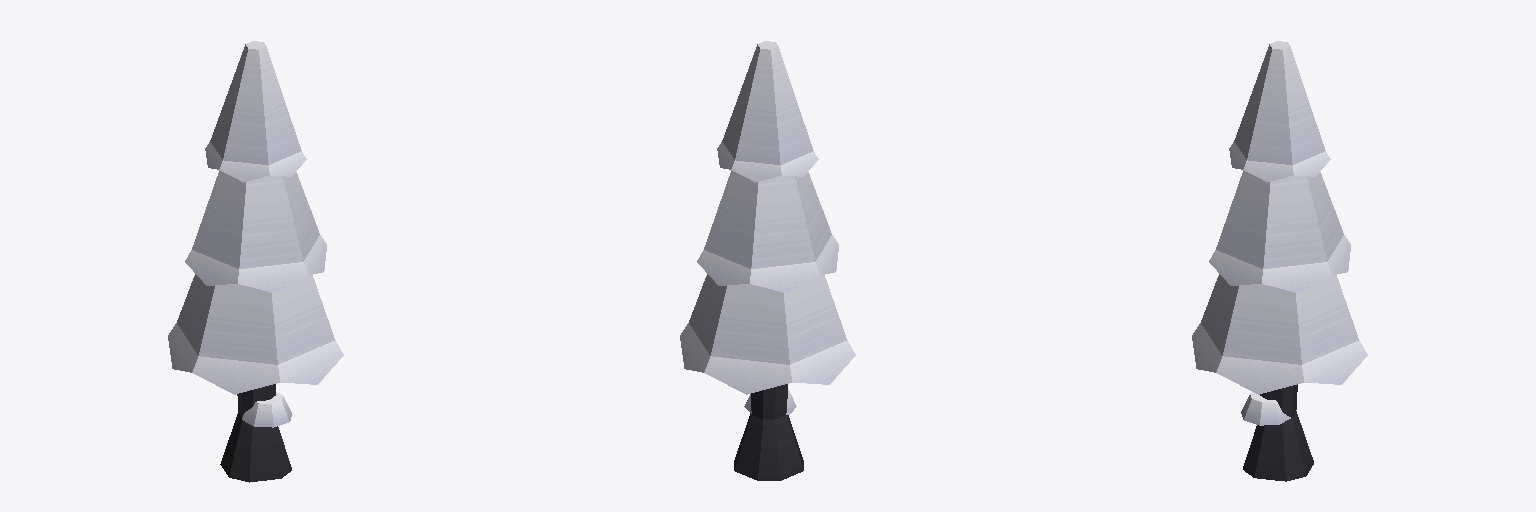
The picture shows the model from 3 angles: view 1: azimuth 30°, elevation 25°; view 2: azimuth 150°, elevation 25°; view 3: azimuth 270°, elevation 25°; orthographic projection.
Parts seen in each view (by area): view 1: tree.069; view 2: tree.069; view 3: tree.069.
Boxes of the visible parts, x1,y1,x2,y2 form: tree.069: [168, 41, 343, 482]; tree.069: [680, 41, 855, 480]; tree.069: [1192, 41, 1367, 481].
Size of the model in its own units: 1.31 by 3.47 by 1.32.
1 materials, 1 textured.